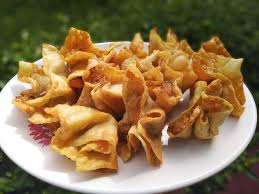Pangsit goreng: (39, 103, 120, 179), (116, 69, 165, 171), (170, 80, 227, 148), (10, 56, 78, 109)
